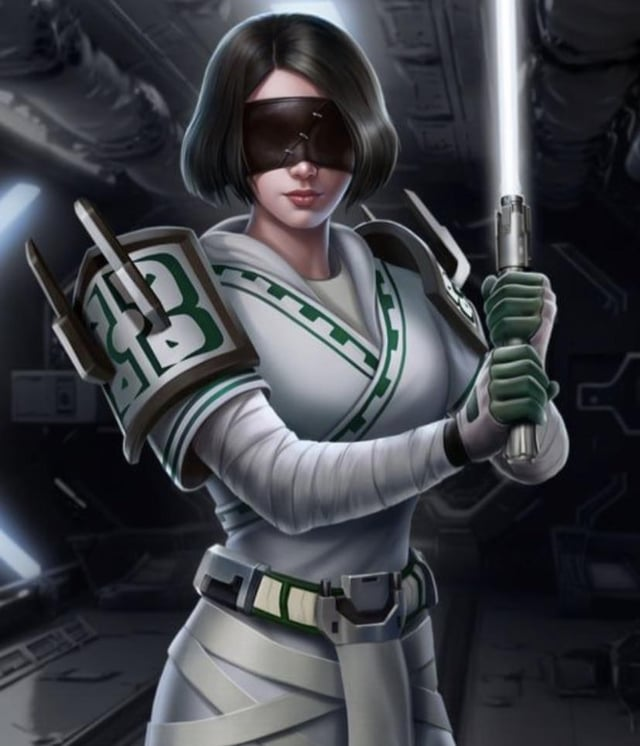lightsaber: (468, 0, 579, 530)
